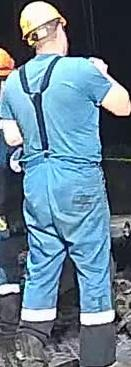helmet: (19, 0, 66, 40), (0, 46, 14, 78)
